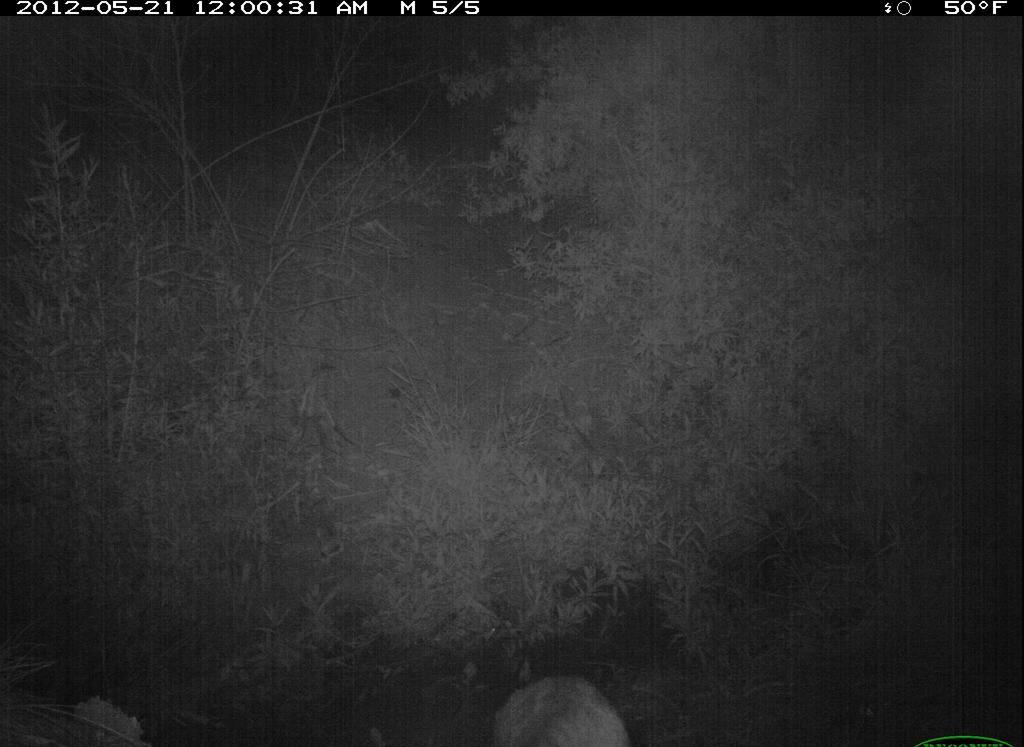cat: (488, 678, 634, 747)
